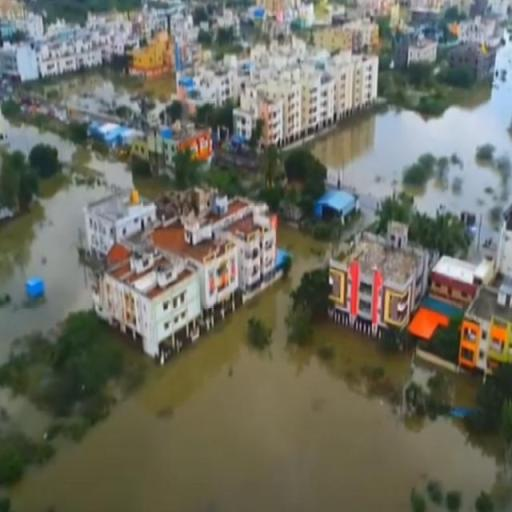flood: (2, 225, 512, 512), (0, 115, 166, 364), (310, 40, 512, 236), (21, 69, 173, 113)
house: (90, 192, 282, 370), (216, 44, 379, 130), (330, 230, 427, 346), (13, 9, 137, 86), (458, 268, 512, 383), (89, 192, 159, 257), (431, 254, 475, 306), (312, 186, 360, 223), (452, 44, 498, 74), (407, 36, 441, 64)
